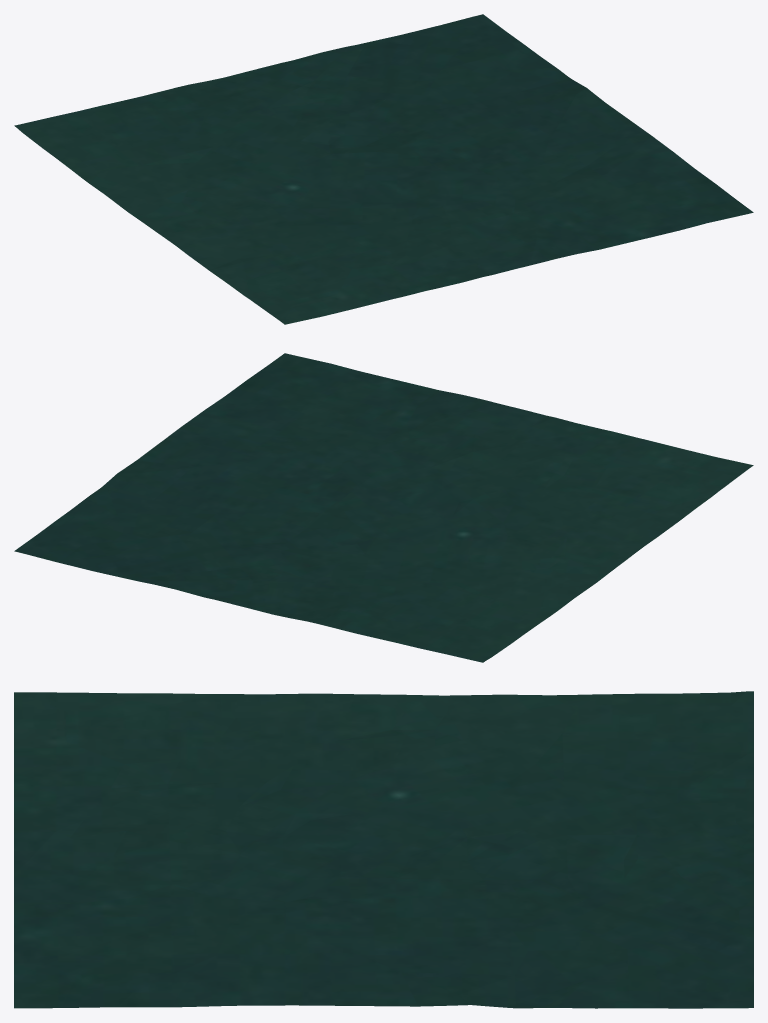
The picture shows the model from 3 angles, top to bottom: view 1: azimuth 30°, elevation 25°; view 2: azimuth 150°, elevation 25°; view 3: azimuth 270°, elevation 25°; orthographic projection. The views are drawn at different scales.
Size of the model in its own units: 52.22 by 0.4508 by 52.22.
2 materials, 2 textured.
